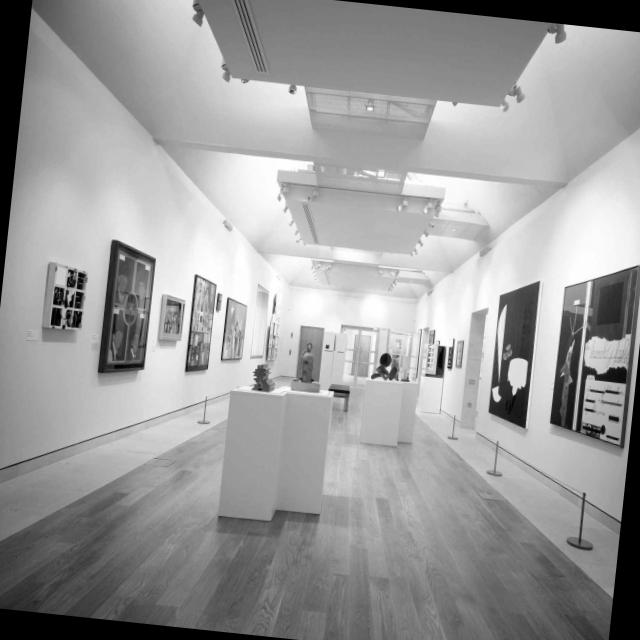ceiling beam: (25, 0, 640, 640)
spotlight crop: (383, 24, 409, 101), (448, 170, 471, 234), (572, 477, 593, 514)
wall clock: (0, 67, 530, 640)
